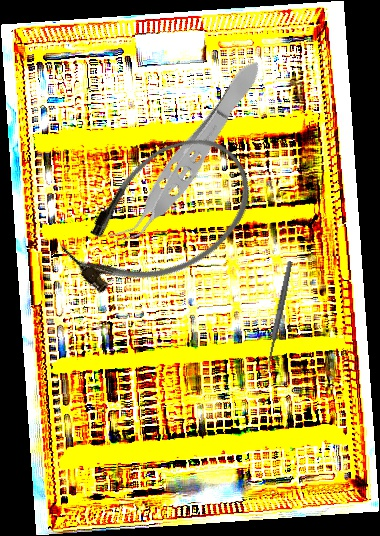Cannula: (45, 114, 274, 322)
Surgical Spoon: (263, 260, 294, 373)
Tissue Forceps: (106, 51, 272, 260)
